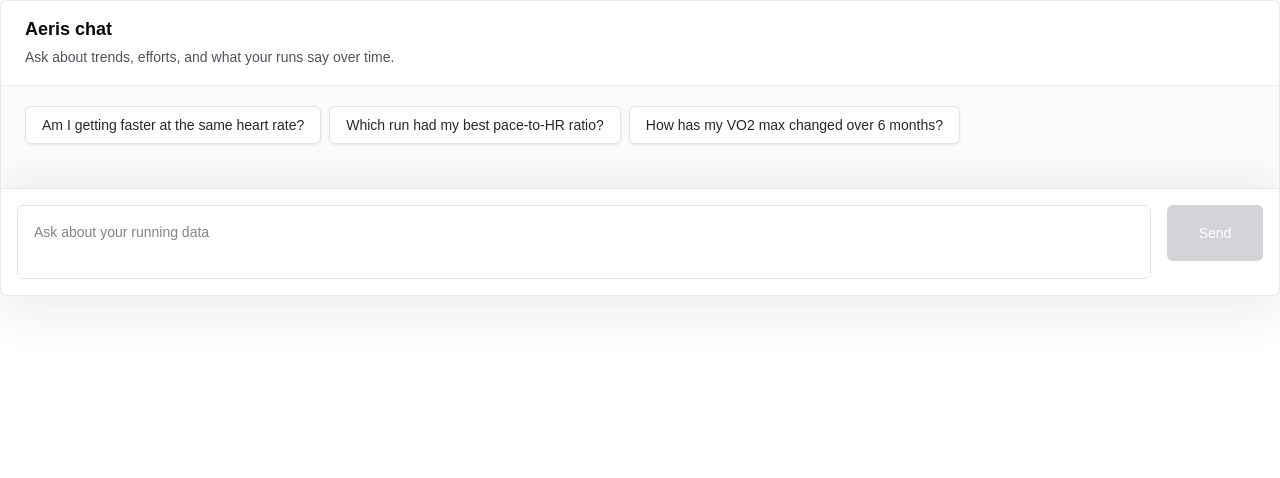
Test: ChatPanel › submits a starter prompt through the same chat flow while keeping custom input available
Click the button with aria-label "quick reply: am i getting faster at the same heart rate": [173, 125] box [25,106,321,144]
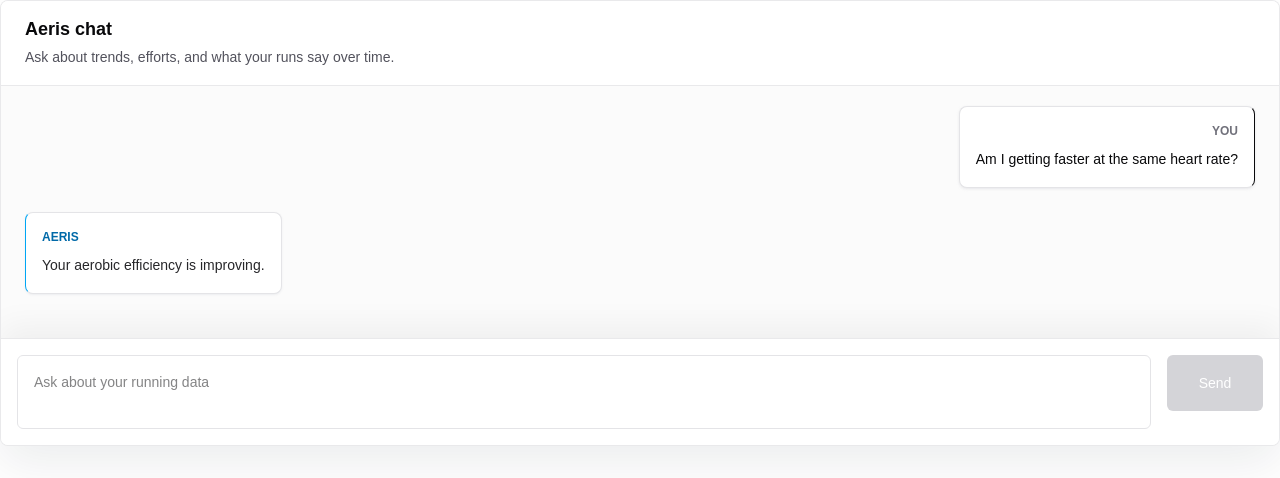
Expected: the text box named "message" is shown, [17,355,1151,429]
Expected: the text "Your aerobic efficiency is improving." is shown, [42,253,265,277]
